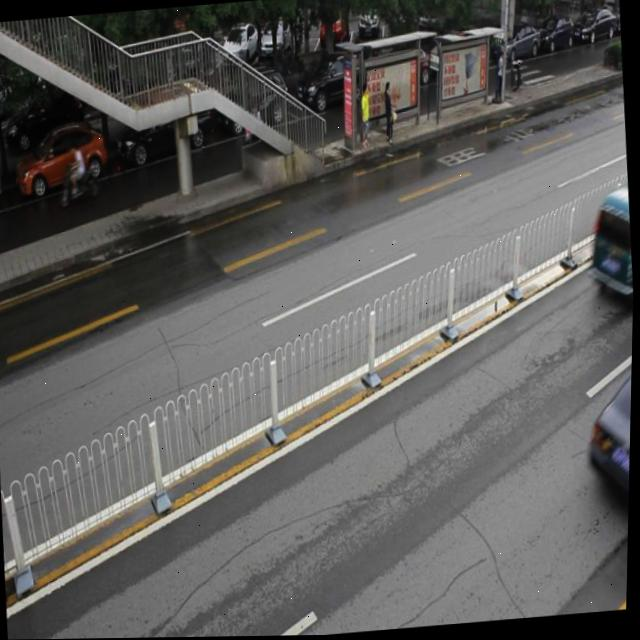car: (579, 369, 633, 514), (14, 121, 110, 195), (114, 100, 213, 165), (210, 74, 293, 142), (292, 56, 373, 122), (0, 146, 5, 214)
truck: (583, 184, 637, 306)
